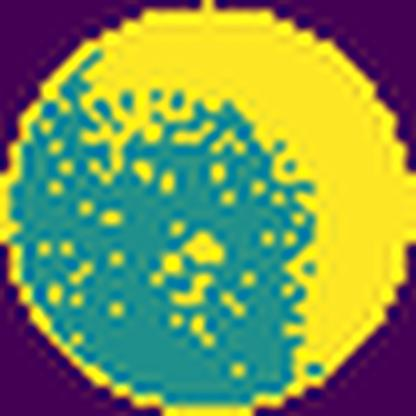Edge-Loc: (85, 0, 415, 383)
